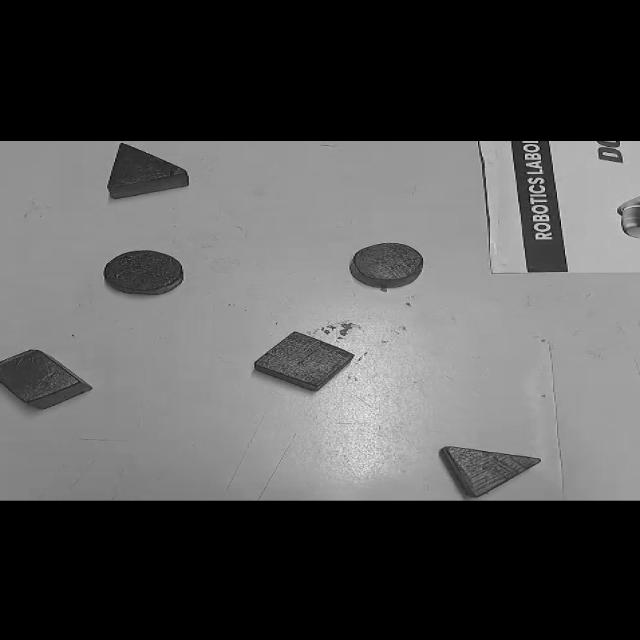bcircle: (102, 249, 186, 296)
bcube: (252, 330, 355, 392)
btriangle: (109, 142, 186, 190)
rcircle: (348, 241, 426, 288)
rcube: (0, 348, 92, 409)
rtriangle: (438, 445, 540, 498)
